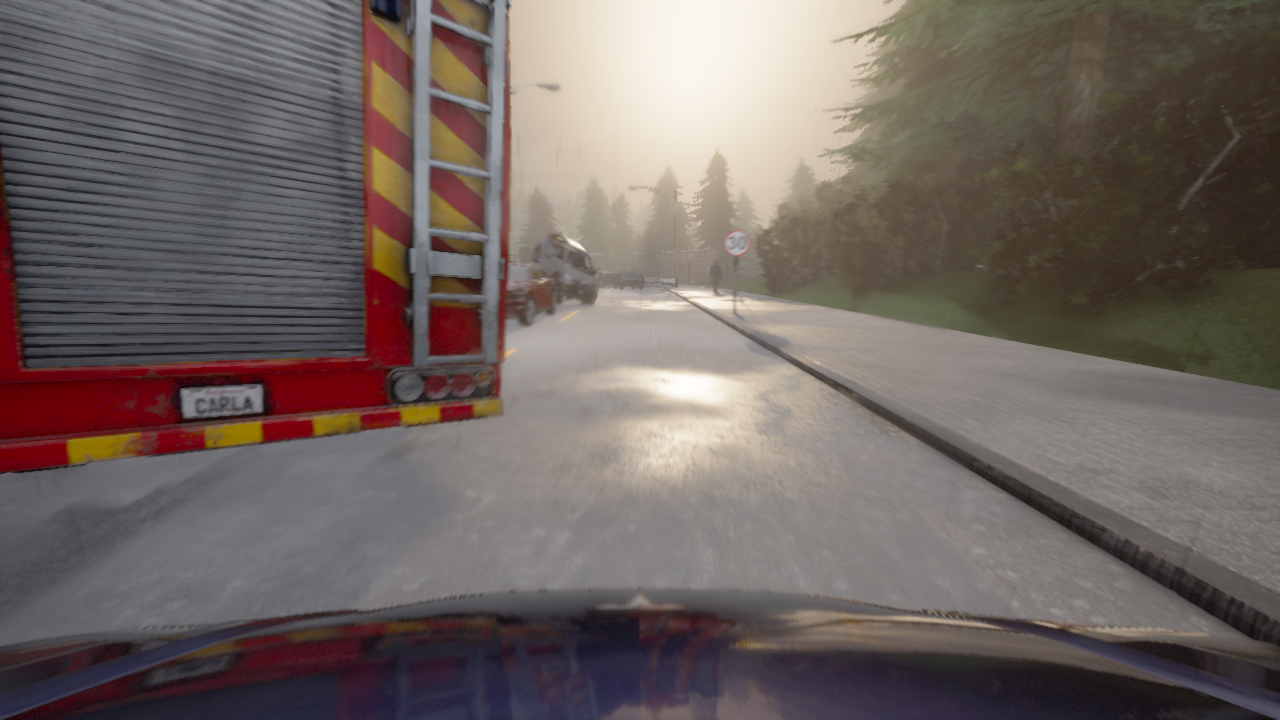cyclist: (0, 588, 1279, 719), (532, 232, 597, 303), (506, 261, 555, 325), (539, 266, 571, 303), (757, 253, 801, 275), (613, 270, 644, 287), (593, 268, 616, 286), (520, 247, 541, 265)
pedestrian: (709, 260, 721, 292)
